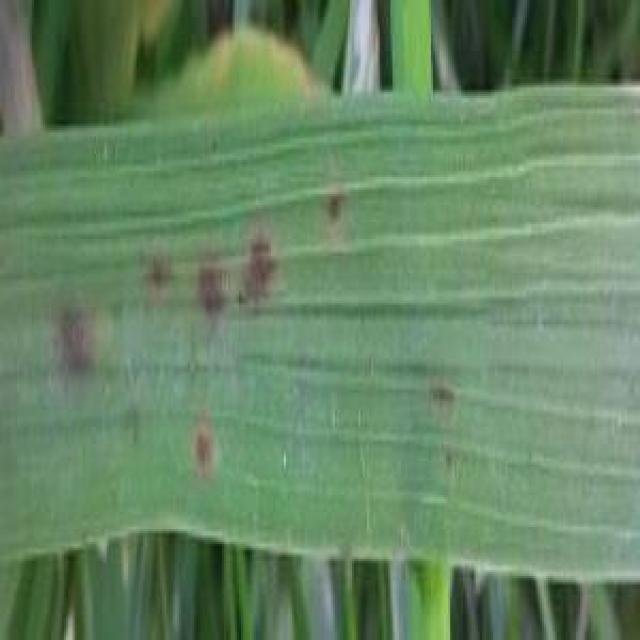brownspots: (54, 298, 102, 378), (237, 232, 280, 320), (184, 244, 228, 326), (188, 427, 228, 482), (324, 186, 356, 228)
